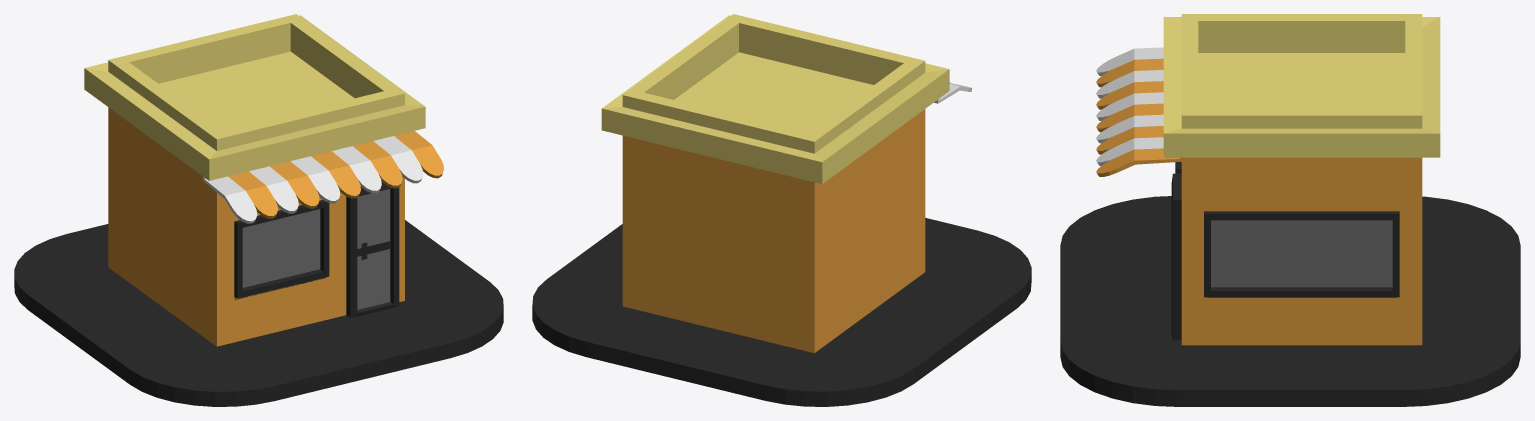
The model's file is shop.fbx.
3 views of the same model, side by side, from view 1: azimuth 30°, elevation 25°; view 2: azimuth 150°, elevation 25°; view 3: azimuth 270°, elevation 25° (orthographic). The views are drawn at different scales.
Visible parts, largest first — view 1: Shop2; view 2: Shop2; view 3: Shop2.
Part boxes in pixels (bbox=[...]): Shop2: bbox=[14, 14, 503, 406]; Shop2: bbox=[532, 14, 1031, 406]; Shop2: bbox=[1060, 14, 1520, 406].
Size of the model in its own units: 523 by 309 by 523.
